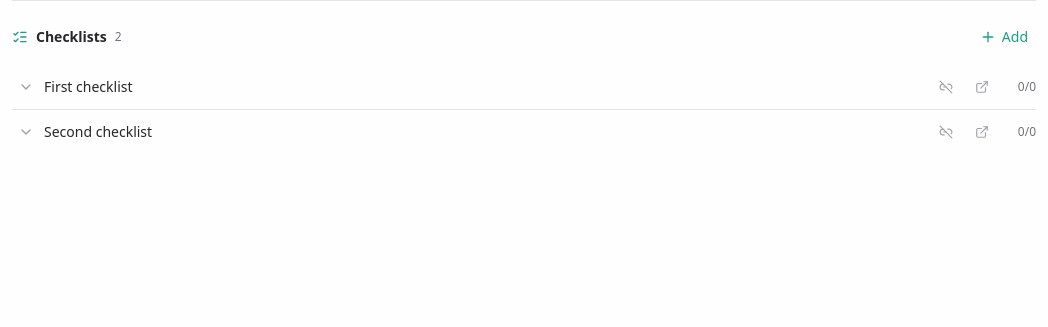
Test: LinkedChecklistList › returns focus to the correct item input in a task
This screenshot has width=1048, height=327.
Click the button named "Expand First checklist".
click(26, 87)  # box [12,73,40,101]
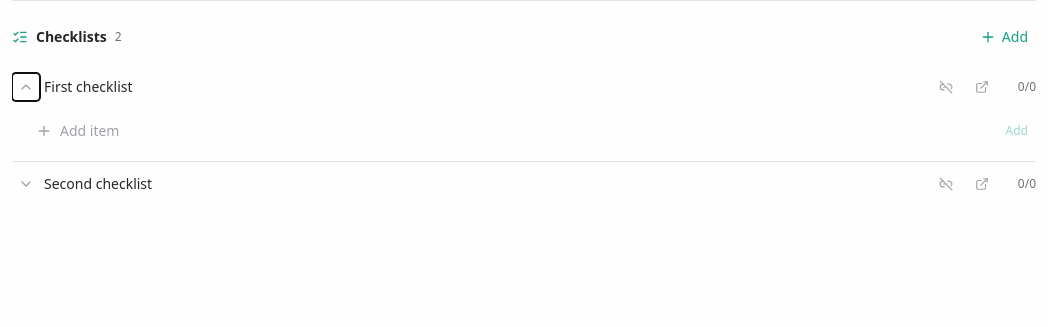
Click the button named "Expand Second checklist".
click(26, 184)  # box [12,170,40,198]
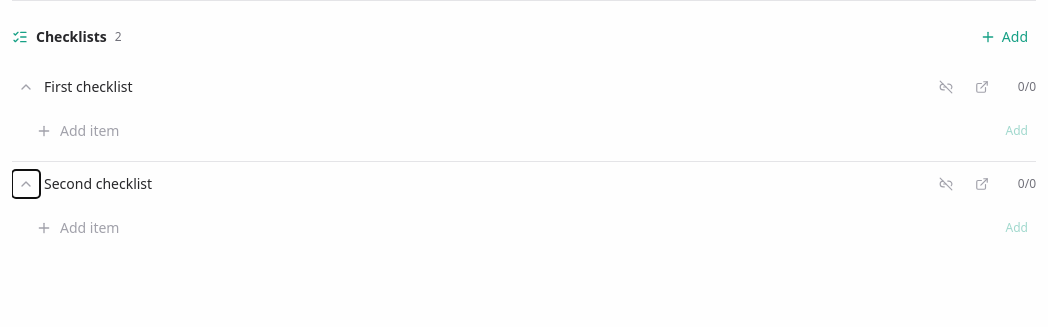
Type "Milk" into the field named "Add item to Second checklist".
click(525, 228); type("Milk")  # box [60,214,990,242]
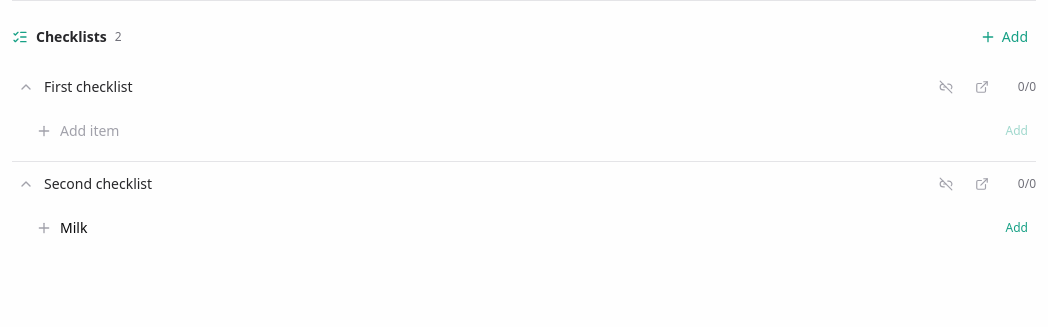
Click the 3rd button "Add".
click(1017, 228)  # box [998,216,1036,240]
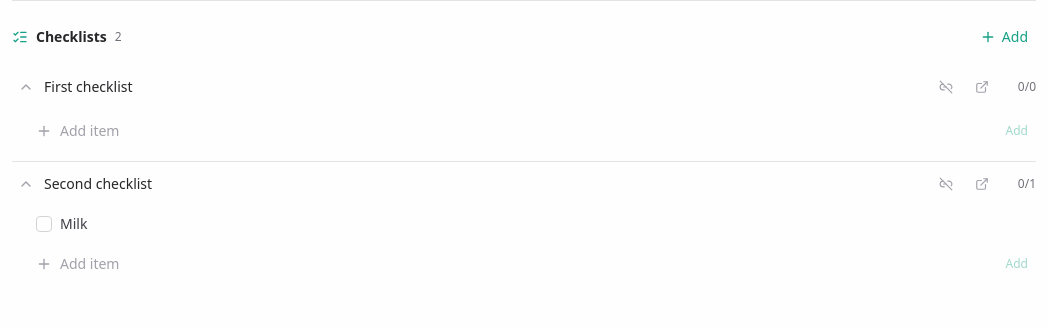
Now the field named "Add item to Second checklist" is empty, box [60,250,990,278]
Type keys "Bread{Enter}"
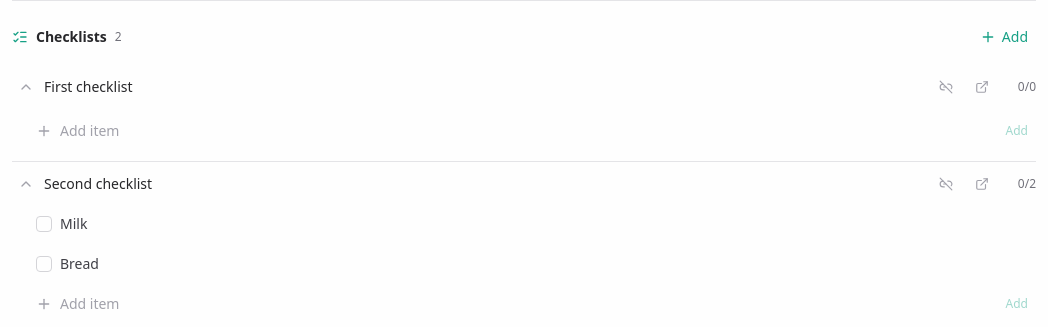
Now the text "Milk" is shown, box [60,214,87,233]
Now the text "Bread" is shown, box [60,254,99,273]
